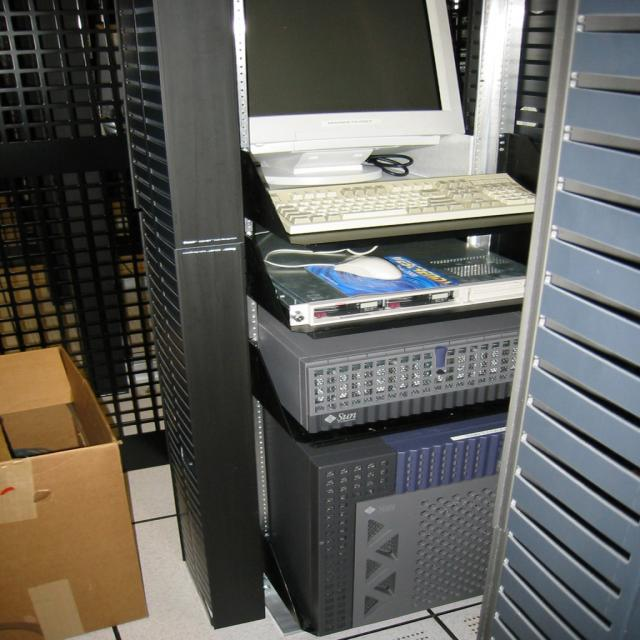Box: (0, 346, 149, 640)
